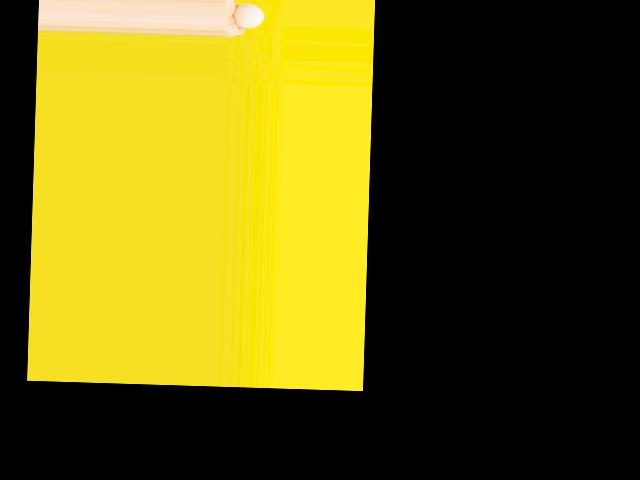egg: (232, 4, 264, 28)
